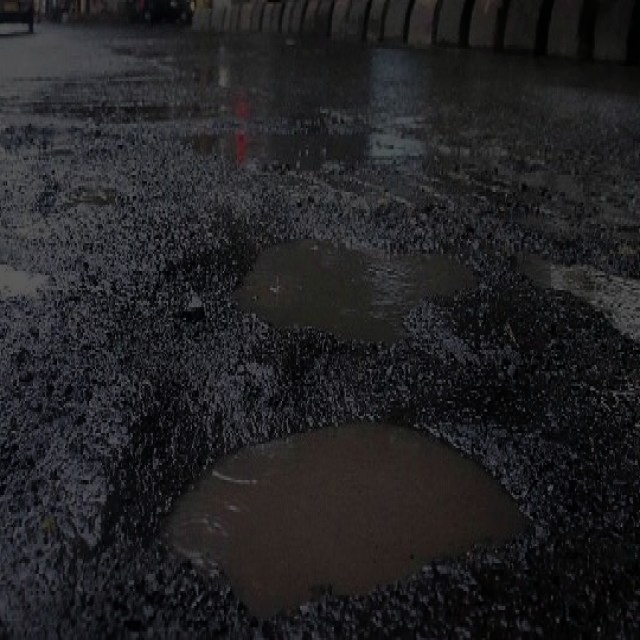Pothole: (112, 384, 542, 625), (204, 209, 488, 350)
